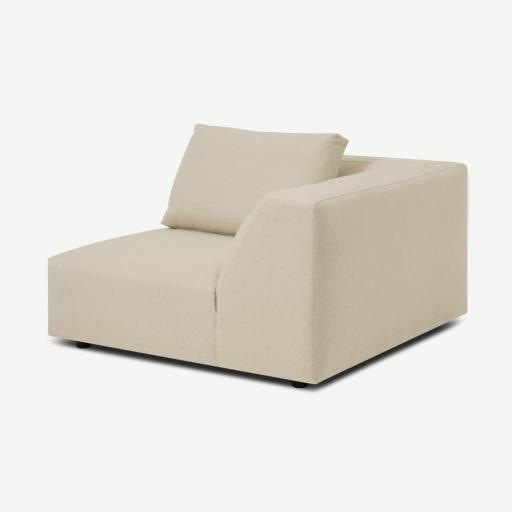back_cushion: (162, 125, 347, 235)
left_arm: (211, 163, 467, 384)
one-seater: (48, 125, 467, 387)
seat_cushion: (49, 228, 232, 365)
